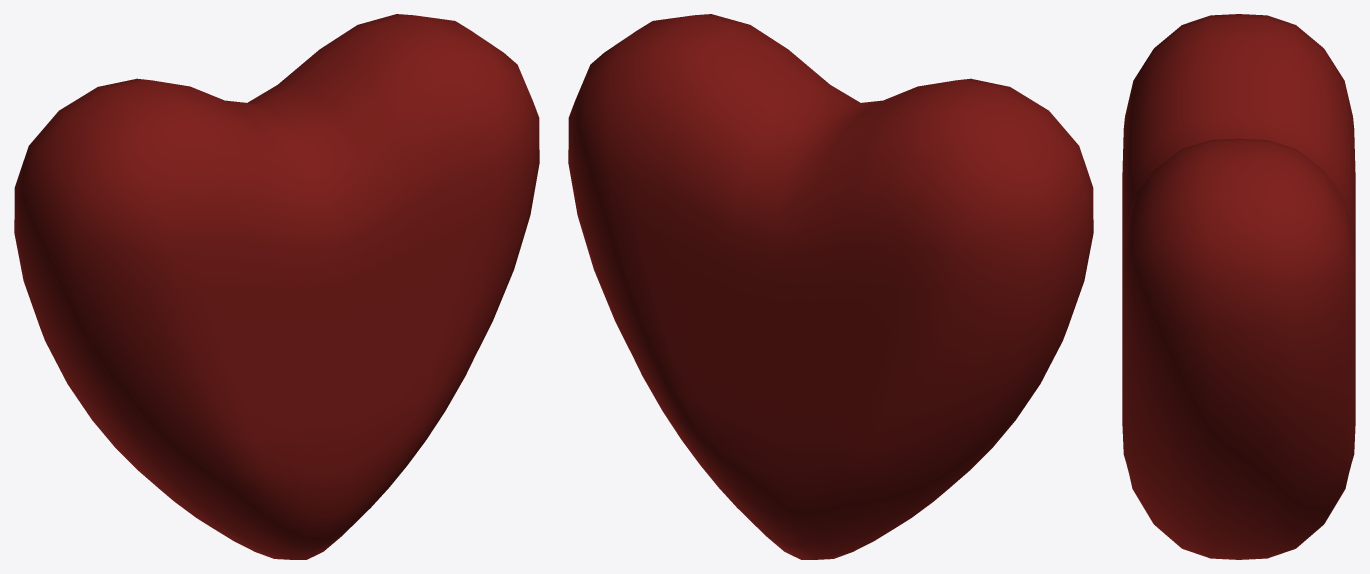
Rendered from health.fbx.
3 views of the same model, side by side, from view 1: azimuth 30°, elevation 25°; view 2: azimuth 150°, elevation 25°; view 3: azimuth 270°, elevation 25° (orthographic). The views are drawn at different scales.
Parts seen in each view (by area): view 1: Cube.051; view 2: Cube.051; view 3: Cube.051.
Part boxes in pixels (box(x1,y1,x2,y2)): Cube.051: box(14, 14, 539, 559); Cube.051: box(568, 14, 1093, 559); Cube.051: box(1122, 14, 1355, 559).
Size of the model in its own units: 231 by 221 by 100.
